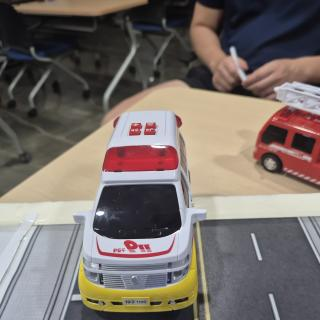Ambulance: (73, 111, 206, 312)
